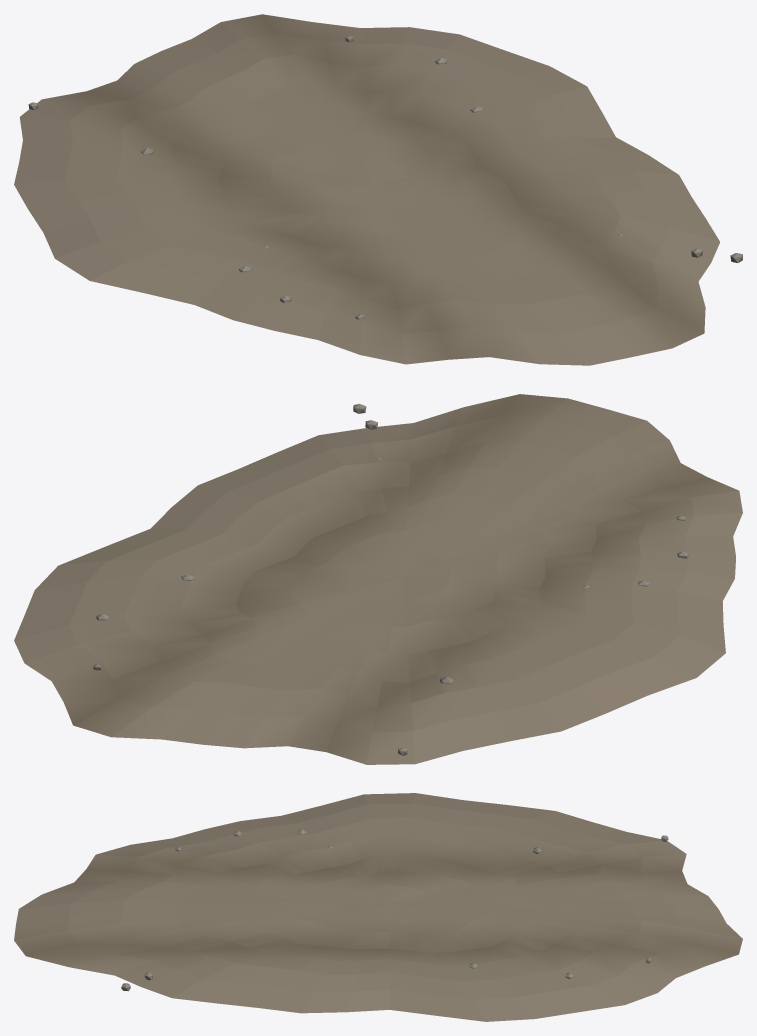
File: boat_launch_gravel_patch.glb
3 views of the same model, one above another, from view 1: azimuth 30°, elevation 25°; view 2: azimuth 150°, elevation 25°; view 3: azimuth 270°, elevation 25° (orthographic). The views are drawn at different scales.
Parts seen in each view (by area): view 1: boat_launch_gravel_patch_LOD0; view 2: boat_launch_gravel_patch_LOD0; view 3: boat_launch_gravel_patch_LOD0.
Boxes of the visible parts, x1=… form: boat_launch_gravel_patch_LOD0: x1=14, y1=14, x2=742, y2=365; boat_launch_gravel_patch_LOD0: x1=14, y1=394, x2=742, y2=764; boat_launch_gravel_patch_LOD0: x1=14, y1=793, x2=742, y2=1021.
Size of what is drawn, in the model's own units: 4.62 by 0.118 by 6.22.
